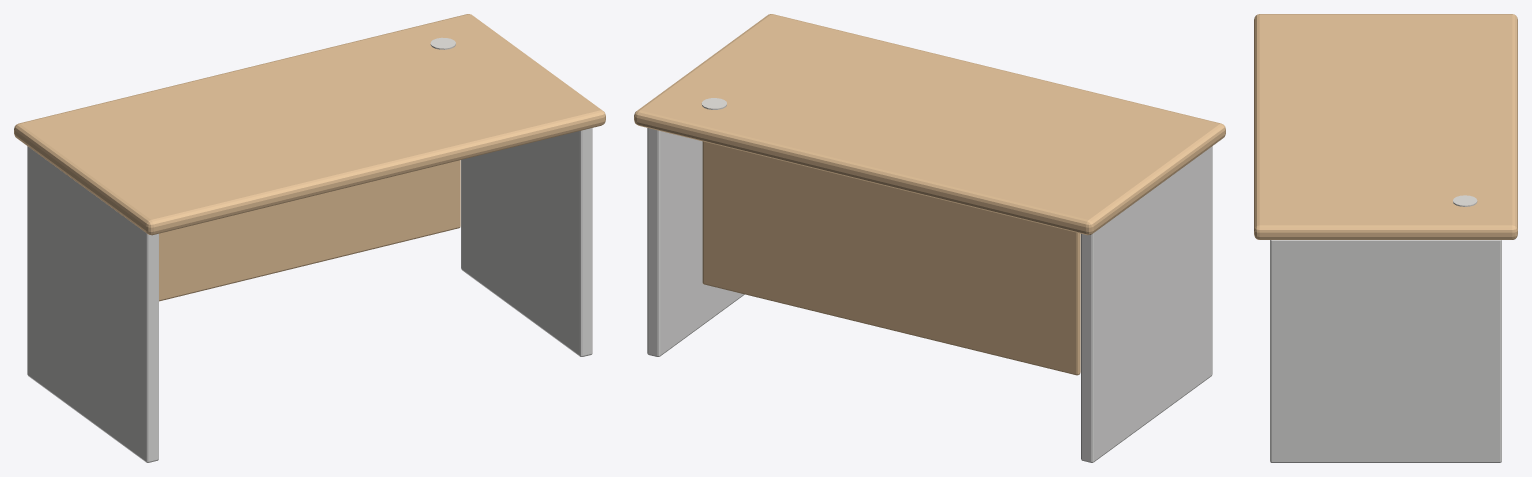
Rendered from isometric_workstation_variations_guide_21.glb.
The picture shows the model from 3 angles, left to right: view 1: azimuth 30°, elevation 25°; view 2: azimuth 150°, elevation 25°; view 3: azimuth 270°, elevation 25°; orthographic projection. The views are drawn at different scales.
Parts seen in each view (by area): view 1: Cube; view 2: Cube; view 3: Cube.
Part boxes in pixels (x1,y1,x2,y2): Cube: (14,14,605,462); Cube: (634,14,1225,462); Cube: (1254,14,1517,462).
Size of the model in its own units: 1.45 by 0.754 by 0.75.
